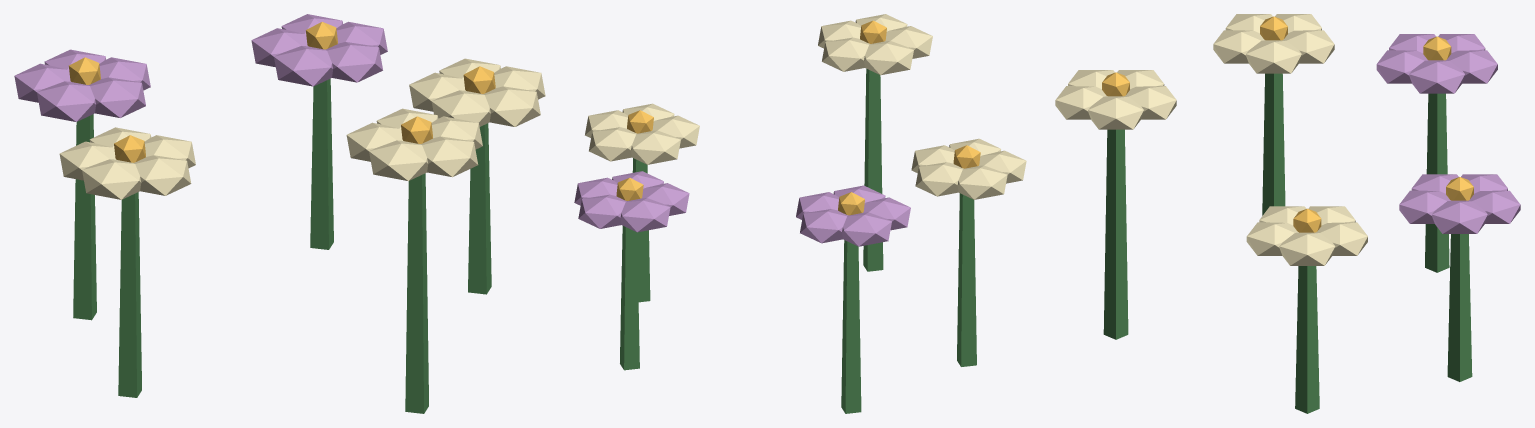
File: enfeite_flores.glb
The picture shows the model from 3 angles, left to right: view 1: azimuth 30°, elevation 25°; view 2: azimuth 150°, elevation 25°; view 3: azimuth 270°, elevation 25°; orthographic projection. The views are drawn at different scales.
Visible parts, largest first — view 1: bosque_enfeite_flores; view 2: bosque_enfeite_flores; view 3: bosque_enfeite_flores.
Boxes of the visible parts, <box> form: bosque_enfeite_flores: <box>14,14,545,413</box>; bosque_enfeite_flores: <box>574,14,1026,413</box>; bosque_enfeite_flores: <box>1055,14,1520,413</box>.
Bounding box in the file's own units: 0.366 × 0.211 × 0.339.
